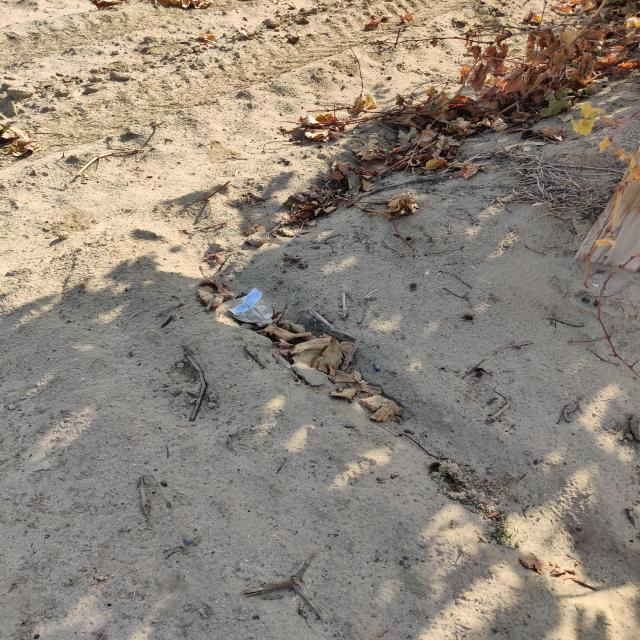litter: (218, 287, 276, 328)
